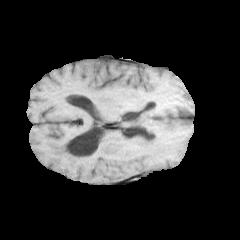glioma: (45, 112, 189, 168)
